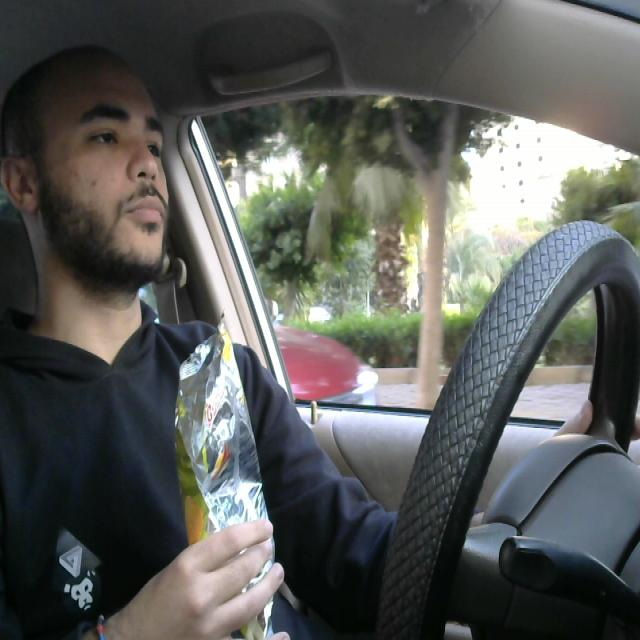eating: (168, 310, 282, 640)
